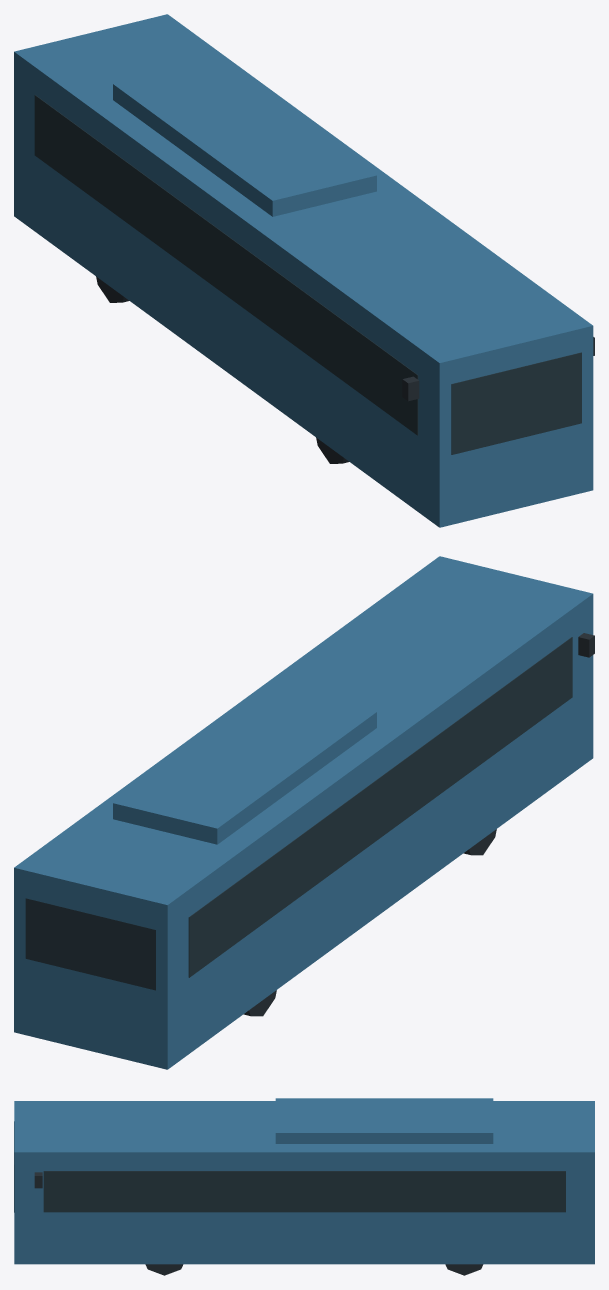
The model's file is city-bus-12m-exterior.lod2.glb.
The picture shows the model from 3 angles, top to bottom: view 1: azimuth 30°, elevation 25°; view 2: azimuth 150°, elevation 25°; view 3: azimuth 270°, elevation 25°; orthographic projection. The views are drawn at different scales.
Parts seen in each view (by area): view 1: body-shell, glass, roof-equipment; view 2: body-shell, glass, roof-equipment; view 3: body-shell, glass, roof-equipment, wheel-rear-left-tyre, wheel-front-left-tyre.
Boxes of the visible parts, box(x1,y1,x2,y2) form: body-shell: box(14, 14, 593, 527); glass: box(34, 95, 581, 454); roof-equipment: box(113, 58, 376, 216); body-shell: box(14, 556, 593, 1069); glass: box(25, 637, 572, 990); roof-equipment: box(113, 686, 376, 844); body-shell: box(14, 1101, 594, 1264); glass: box(14, 1121, 565, 1212); roof-equipment: box(275, 1098, 493, 1143); wheel-rear-left-tyre: box(445, 1264, 483, 1275); wheel-front-left-tyre: box(145, 1264, 183, 1275).
Size of the model in its own units: 3.04 by 3.07 by 12.01.
